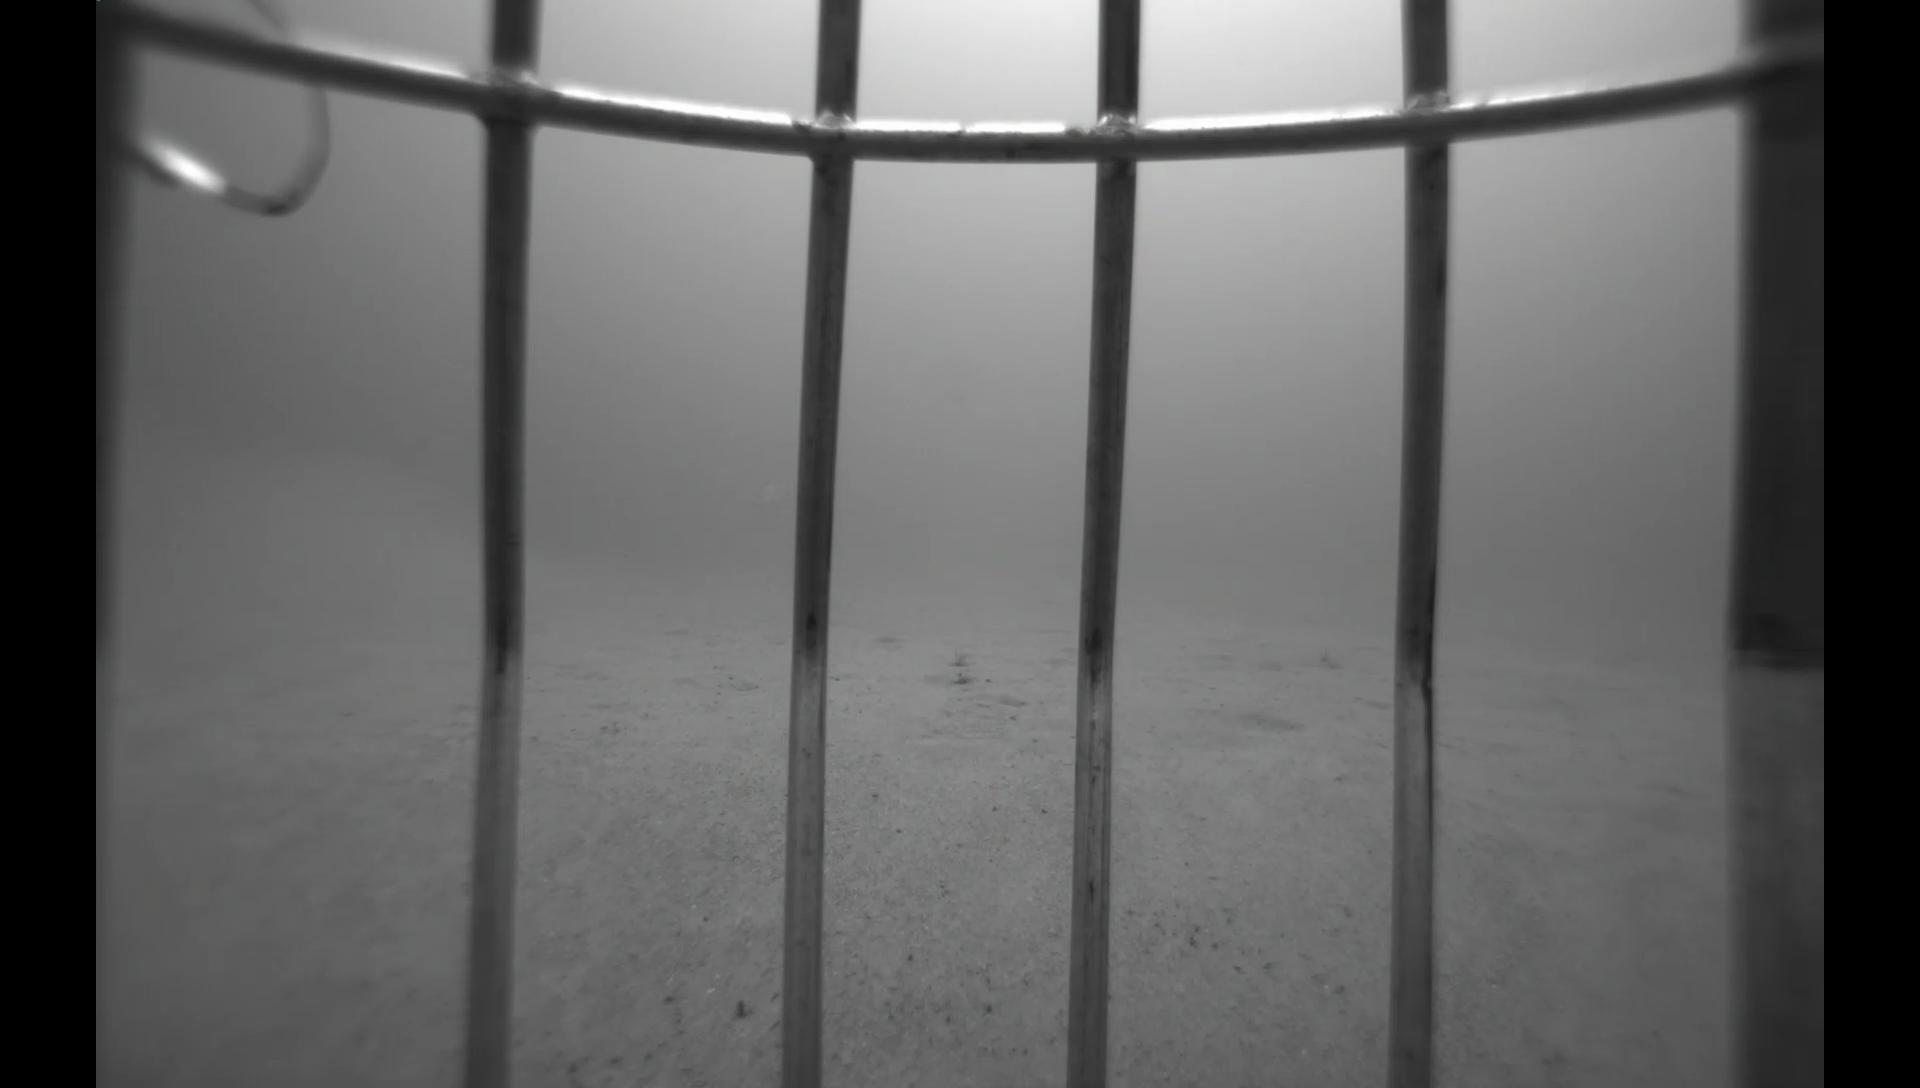CAULOLATILUSCYANOPS-170070101: (745, 475, 793, 510)
